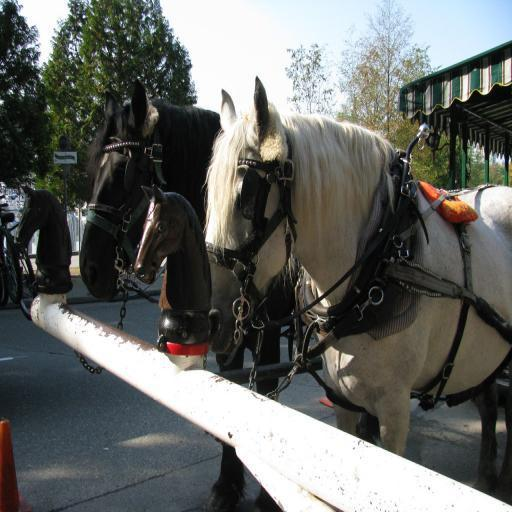horse: (201, 75, 512, 507), (78, 79, 306, 512), (130, 181, 212, 370), (15, 182, 73, 296)
